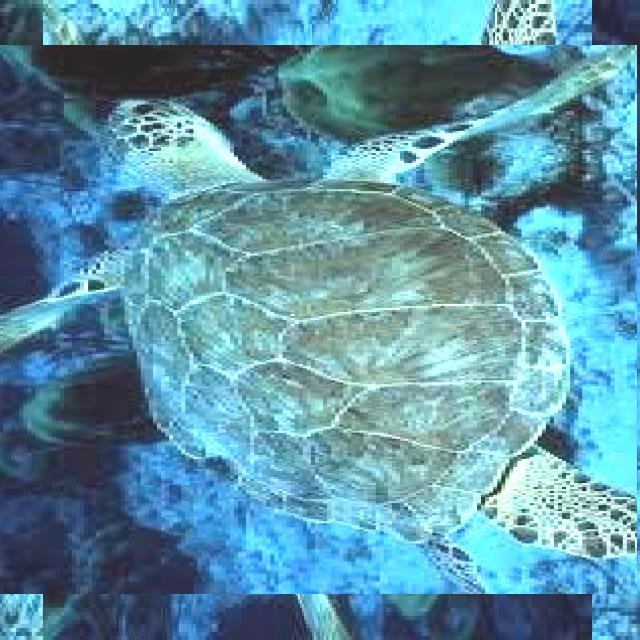Sea turtle: (20, 23, 615, 617)
